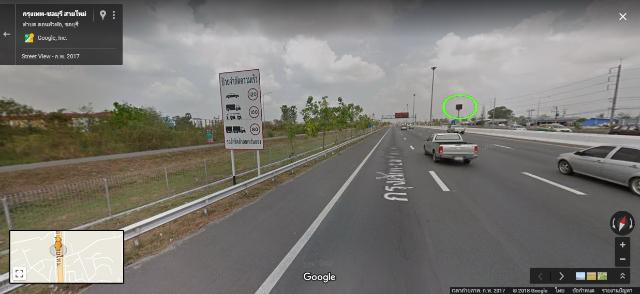limit100: (249, 106, 259, 118)
limit120: (248, 89, 258, 101)
limit80: (250, 123, 260, 134)
